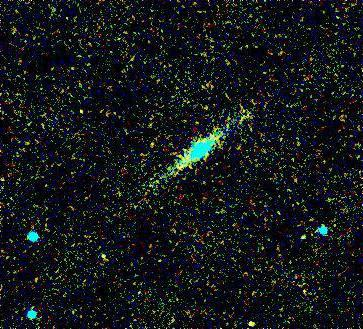star: (235, 305, 265, 329)
